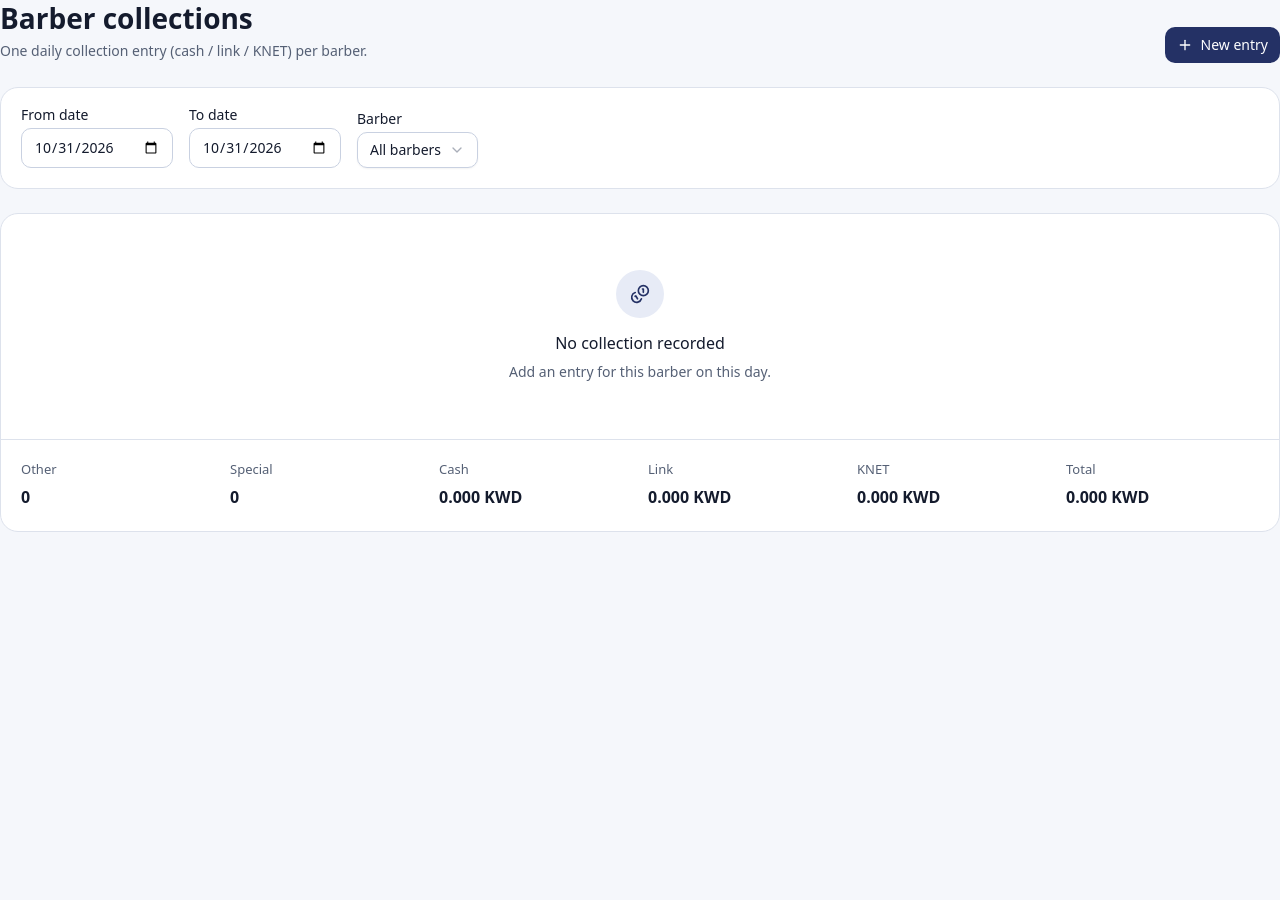
it: prefills completed visits beyond the first page of cancelled bookings
Click the button "New entry". click: (1222, 45)
box: [1165,27,1279,63]
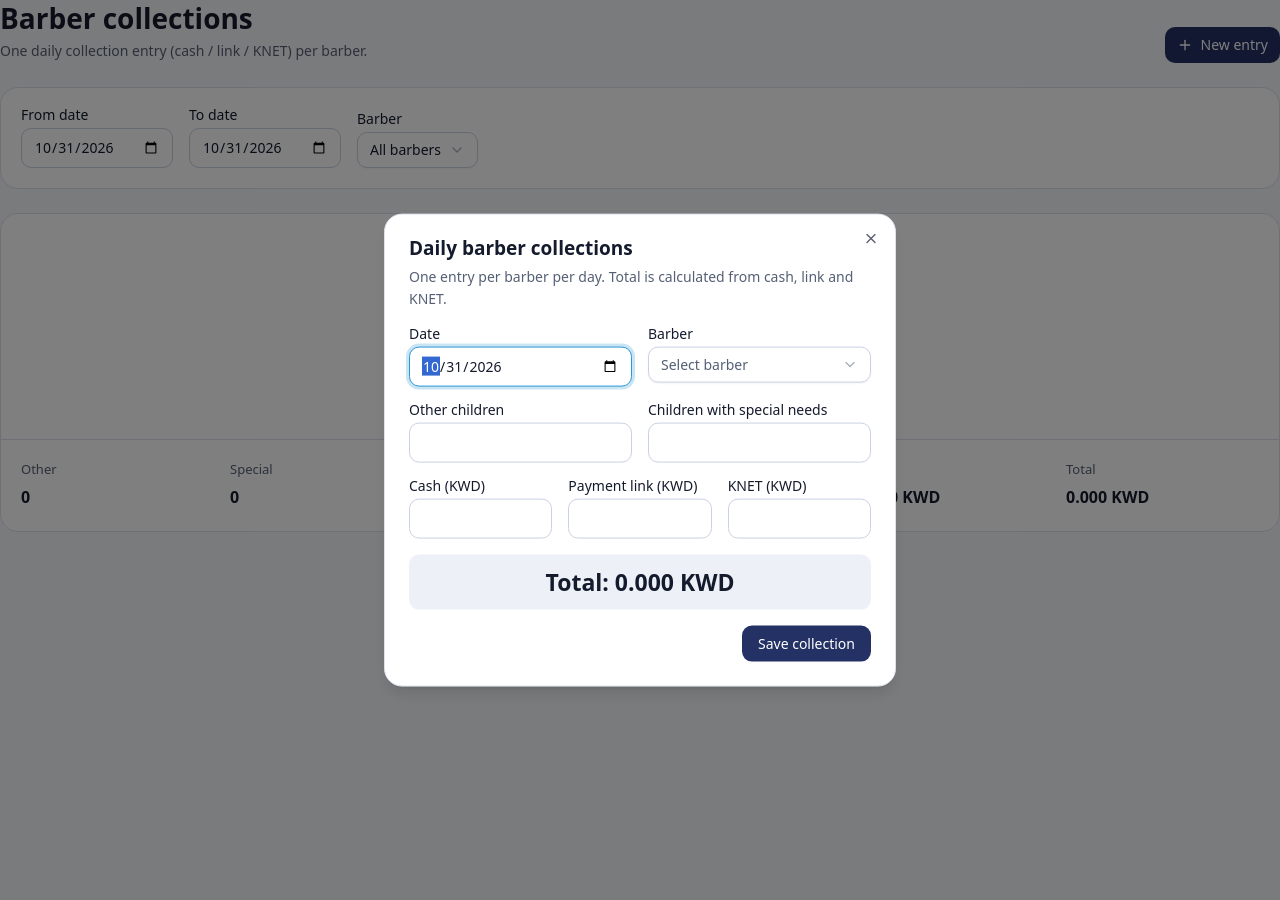
Click the dropdown. click: (760, 364)
box: [648,346,871,382]
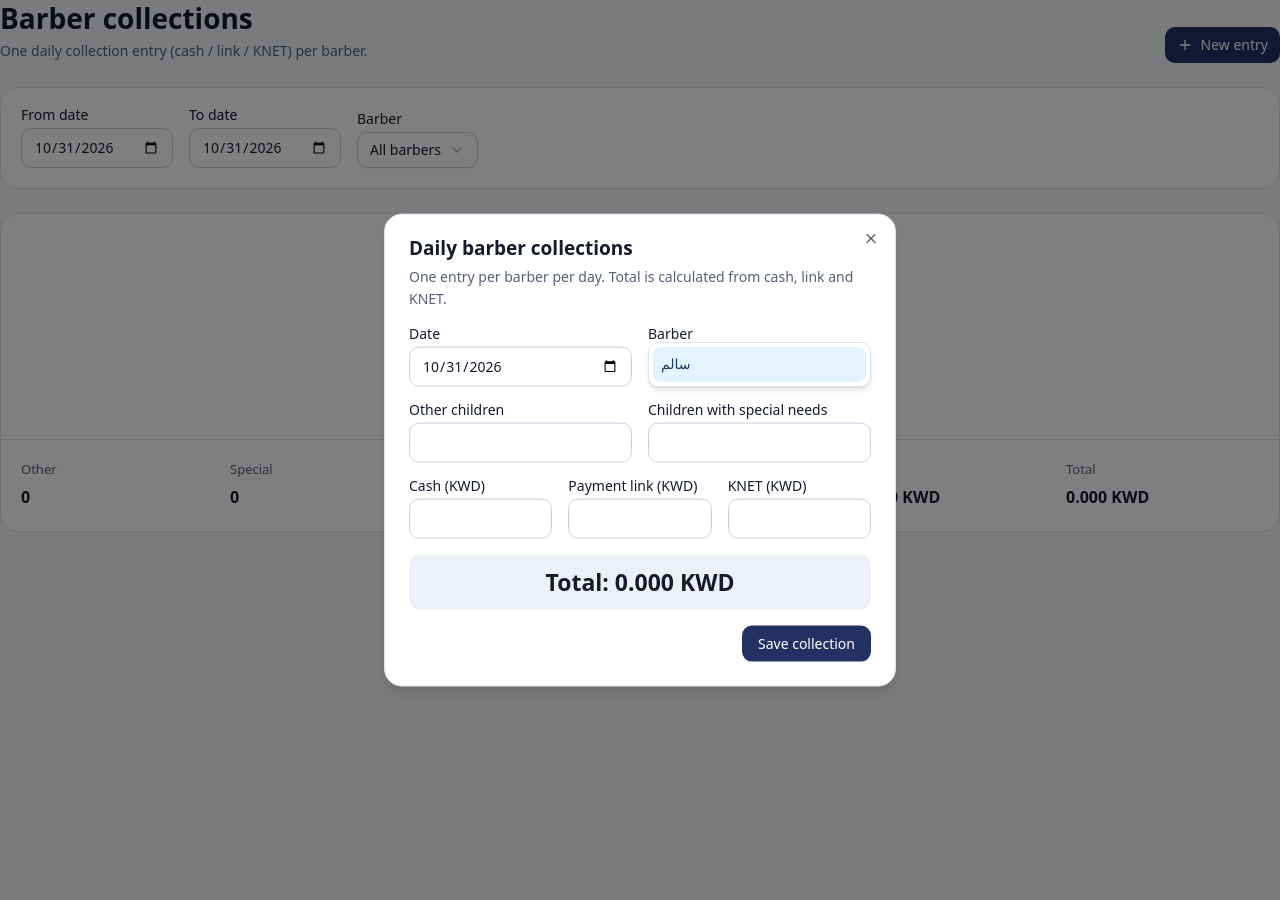
Click the option "سالم". click: (760, 365)
box: [653,347,866,382]
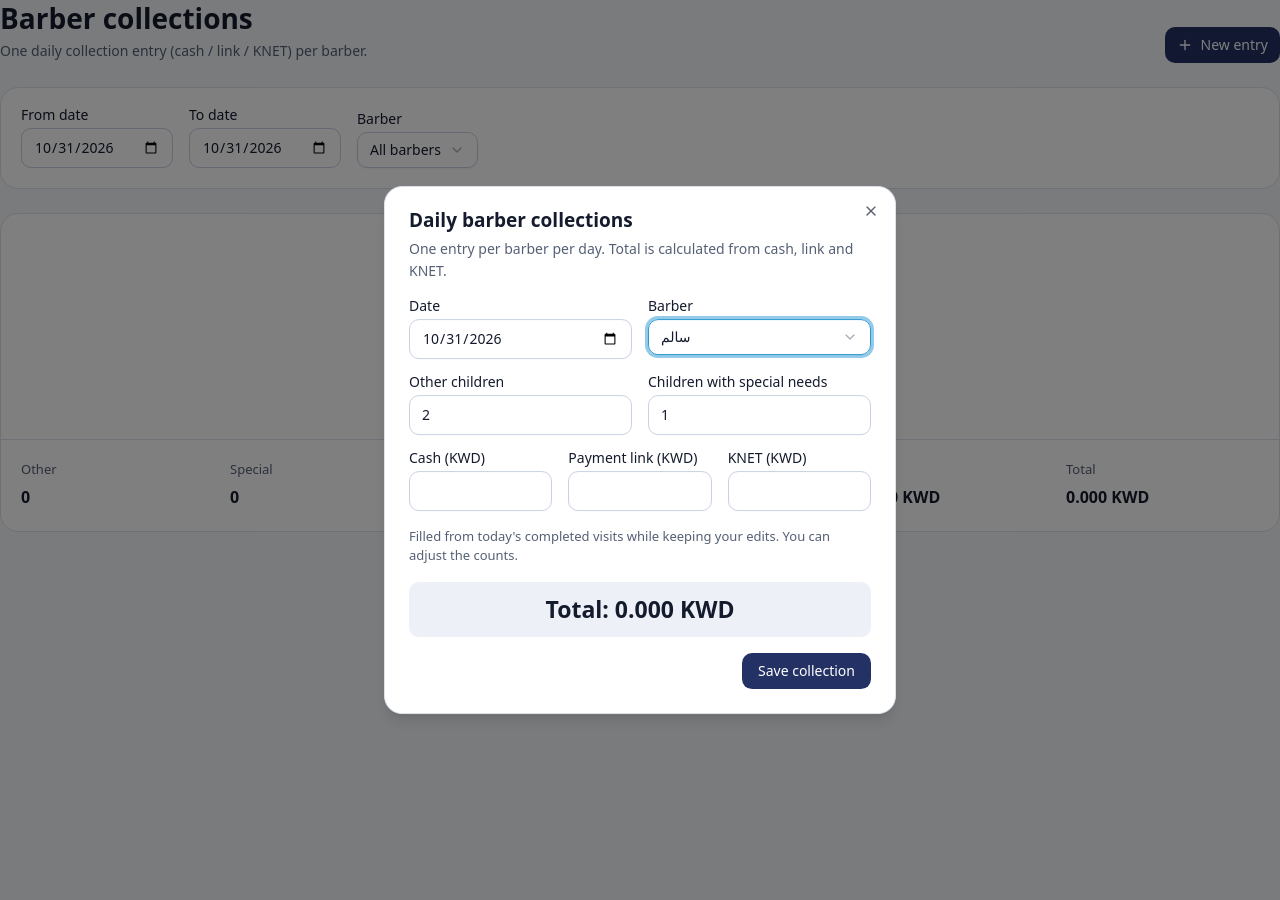
expect the number field labelled "Other children" holds "2": met, box [409,395,632,435]
